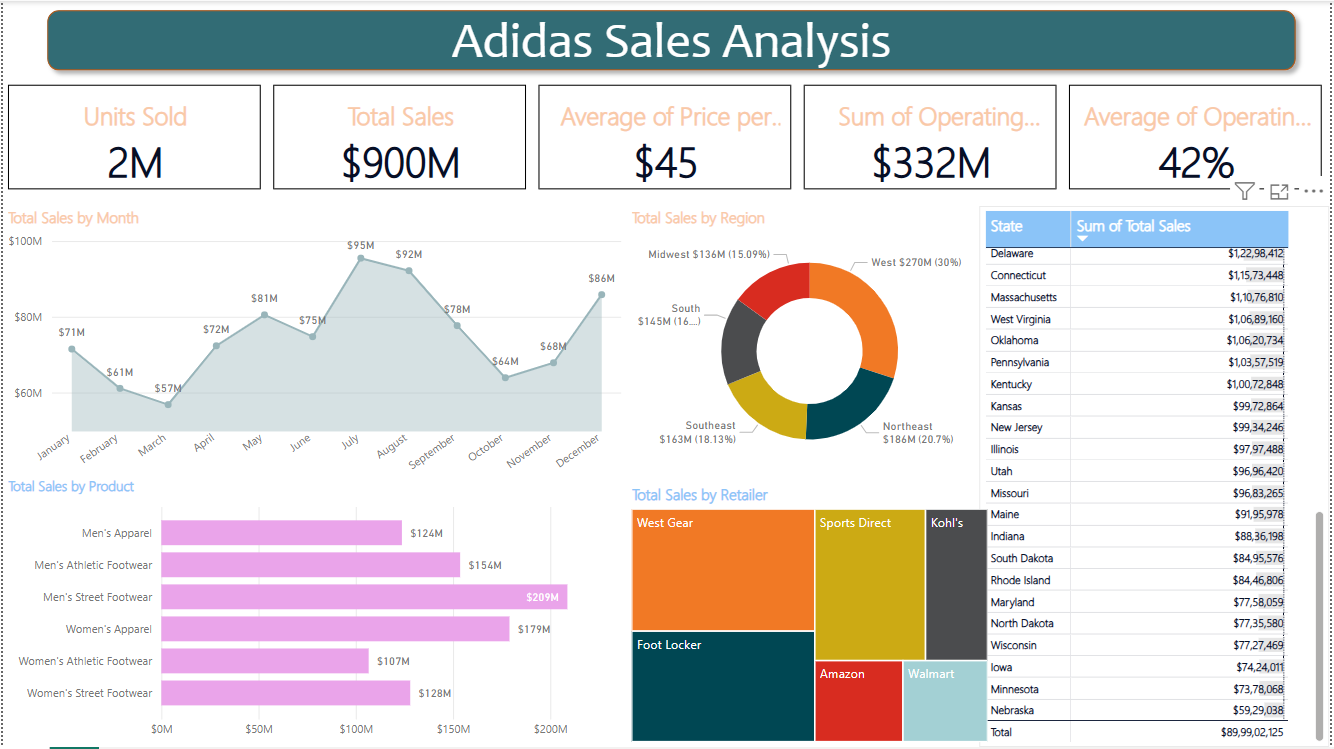

What the dashboard file says about the page in this screenshot:
{"tool":"powerbi","page":{"name":"Page 1","canvas":[1280,720],"ordinal":0},"visuals":[{"type":"shape","box":[34.2,0,1222.8,75.8],"z":0},{"type":"cardVisual","fields":{"Data":["Sum(Data Sales Adidas.Units Sold)","Sum(Data Sales Adidas.Total Sales)","Avg(Data Sales Adidas.Price per Unit)","Sum(Data Sales Adidas.Operating Profit)","Avg(Data Sales Adidas.Operating Margin)"]},"box":[0,75.8,1280.3,111.3],"z":1000},{"type":"areaChart","title":"Total Sales by Month","fields":{"Category":["Data Sales Adidas.Invoice Date.Variation.Date Hierarchy.Month"],"Y":["Sum(Data Sales Adidas.Total Sales)"]},"box":[0,198.1,601.6,267.8],"z":2000},{"type":"tableEx","title":" Total Sales by State","fields":{"Values":["Data Sales Adidas.State","Sum(Data Sales Adidas.Total Sales)"]},"box":[942.2,197.9,337.8,522.4],"z":3000},{"type":"donutChart","title":"Total Sales by Region","fields":{"Category":["Data Sales Adidas.Region"],"Y":["Sum(Data Sales Adidas.Total Sales)"]},"box":[601.6,198.1,353.4,260.5],"z":4000},{"type":"barChart","title":"Total Sales by Product","fields":{"Category":["Data Sales Adidas.Product"],"Y":["Sum(Data Sales Adidas.Total Sales)"]},"box":[0,458.6,601.6,261.7],"z":5000},{"type":"treemap","title":"Total Sales by Retailer","fields":{"Group":["Data Sales Adidas.Retailer"],"Values":["Sum(Data Sales Adidas.Total Sales)"]},"box":[601.6,465.9,353.4,254.3],"z":6000}]}

Visuals, with their boxes in screenshot pixels (x1, y1, x2, y2), scaled from the page's 1280x720 canvas onto the 1334x749 screenshot:
shape: left=36, top=0, right=1310, bottom=79
cardVisual - Sum(Data Sales Adidas.Units Sold) x Sum(Data Sales Adidas.Total Sales): left=0, top=79, right=1333, bottom=195
"Total Sales by Month" areaChart: left=0, top=206, right=627, bottom=485
" Total Sales by State" tableEx: left=982, top=206, right=1333, bottom=748
"Total Sales by Region" donutChart: left=627, top=206, right=995, bottom=477
"Total Sales by Product" barChart: left=0, top=477, right=627, bottom=748
"Total Sales by Retailer" treemap: left=627, top=485, right=995, bottom=748
